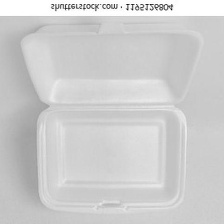foam_box: (14, 16, 210, 219)
